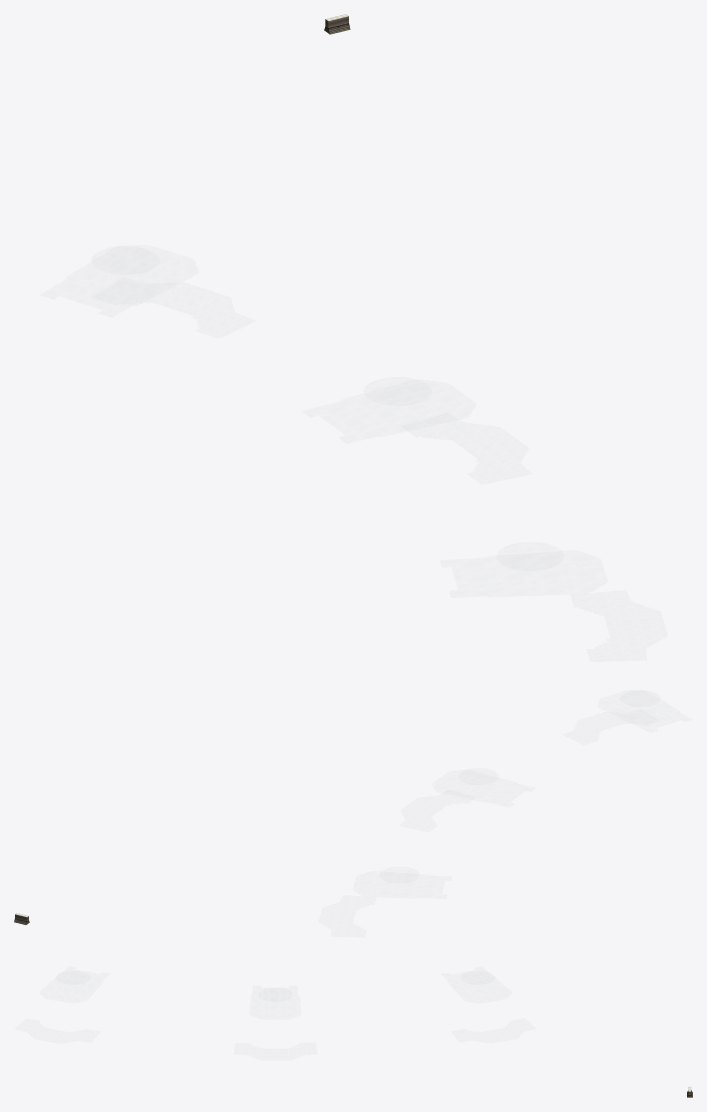
Rendered from hj2-stdm-mesh.glb.
The picture shows the model from 3 angles, top to bottom: view 1: azimuth 30°, elevation 25°; view 2: azimuth 150°, elevation 25°; view 3: azimuth 270°, elevation 25°; orthographic projection. The views are drawn at different scales.
Parts seen in each view (by area): view 1: hj2-stdm-props; view 2: hj2-stdm-props; view 3: hj2-stdm-props.
Part boxes in pixels (left/top/right/bottom): hj2-stdm-props: left=40, top=14, right=667, bottom=661; hj2-stdm-props: left=14, top=690, right=691, bottom=937; hj2-stdm-props: left=15, top=966, right=692, bottom=1097.
Bounding box in the file's own units: 132 × 18.25 × 300.
4 materials, 4 textured.
